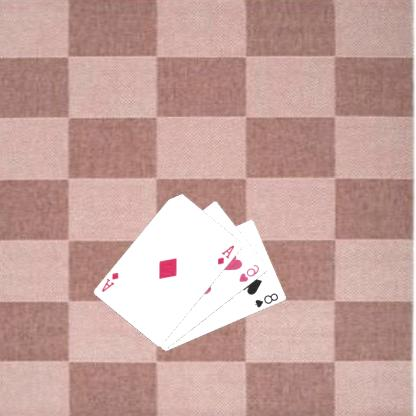6H: (238, 262, 262, 284)
8S: (254, 290, 281, 309)
AD: (101, 270, 122, 293), (217, 242, 237, 266)
